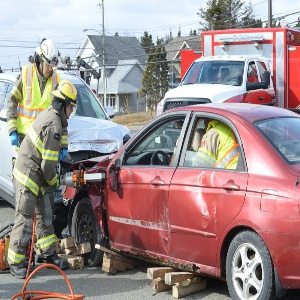door: (126, 172, 215, 253)
